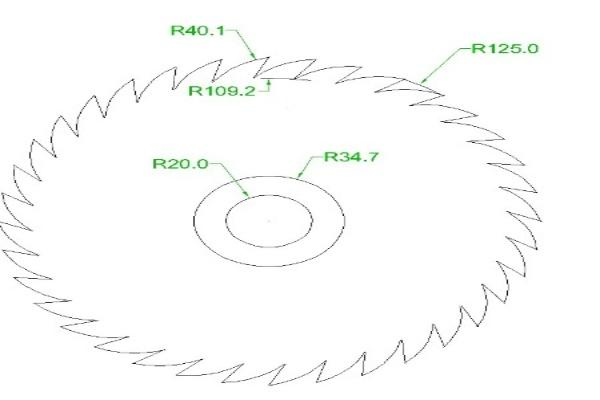dimensions: (145, 152, 215, 181), (469, 36, 538, 63), (182, 82, 263, 103), (315, 146, 386, 167), (166, 16, 230, 39)
